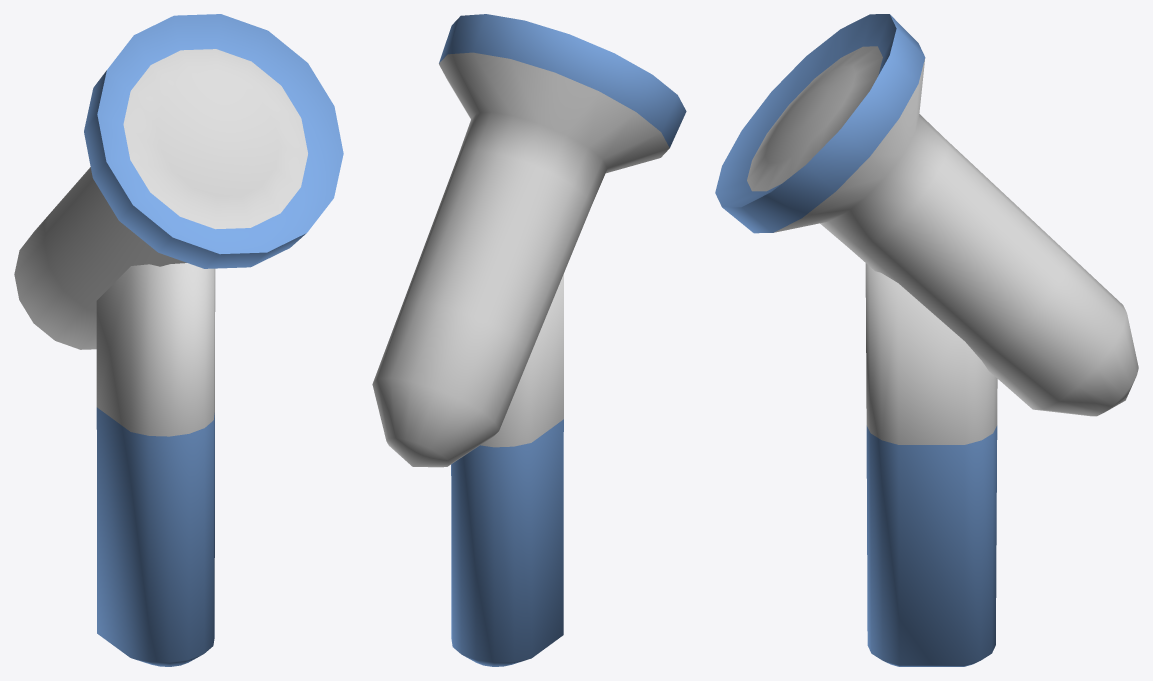
The model's file is ShowerHead.fbx.
The picture shows the model from 3 angles, left to right: view 1: azimuth 30°, elevation 25°; view 2: azimuth 150°, elevation 25°; view 3: azimuth 270°, elevation 25°; orthographic projection. The views are drawn at different scales.
Parts seen in each view (by area): view 1: Head, Handle; view 2: Head, Handle; view 3: Head, Handle.
Part boxes in pixels (x1,y1,x2,y2): Head: (14,14,343,349); Handle: (96,263,215,666); Head: (372,14,686,467); Handle: (451,274,563,666); Head: (715,14,1138,416); Handle: (865,263,997,666).
Bounding box in the file's own units: 200 × 545 × 330.
